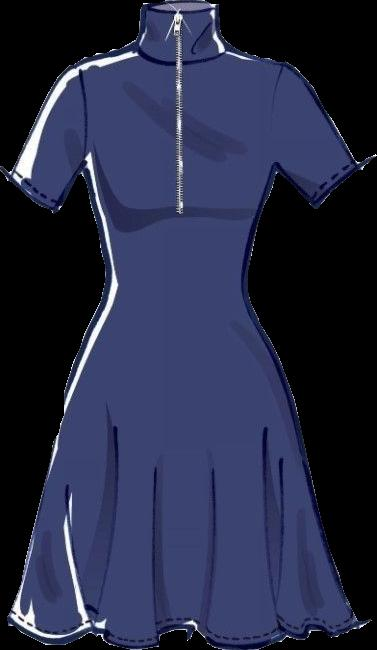Bodice: (77, 0, 288, 278)
Hemline: (2, 616, 358, 649)
Neckline: (128, 41, 228, 67), (141, 2, 219, 15)
Skirt: (7, 279, 370, 649)
Sleeve: (274, 63, 363, 208), (5, 60, 84, 212)
Sleeveline: (268, 62, 291, 174), (75, 62, 89, 175)
